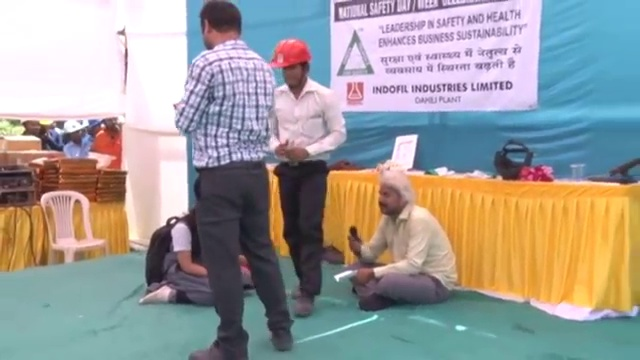helmet: (263, 34, 313, 71), (87, 151, 117, 170), (60, 120, 84, 135)
helmet_off: (191, 1, 247, 50), (369, 173, 416, 224), (22, 119, 41, 137), (101, 116, 118, 134)
helmet_on: (265, 36, 313, 91), (60, 119, 84, 146)
person: (174, 0, 296, 360), (265, 35, 345, 316), (342, 170, 457, 316), (137, 210, 210, 308), (90, 119, 121, 167), (60, 119, 93, 158), (19, 118, 47, 153)
